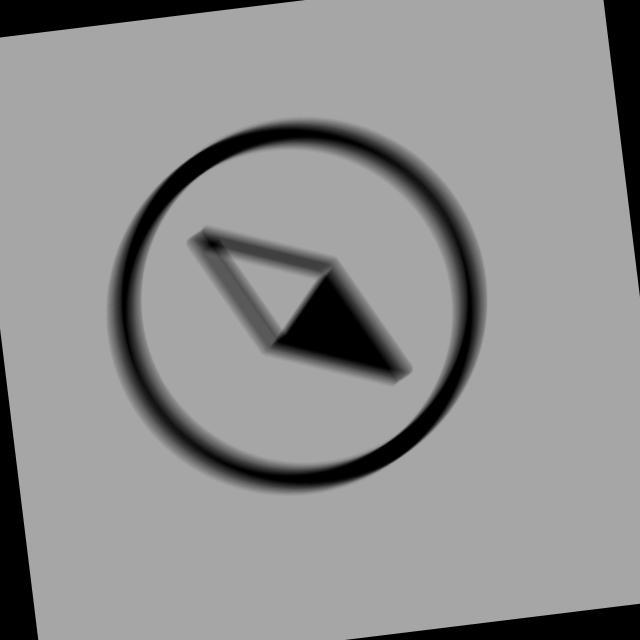compass: (74, 90, 514, 521)
